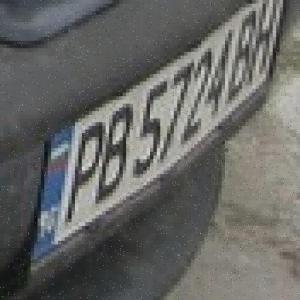Plate: (20, 0, 290, 255)
